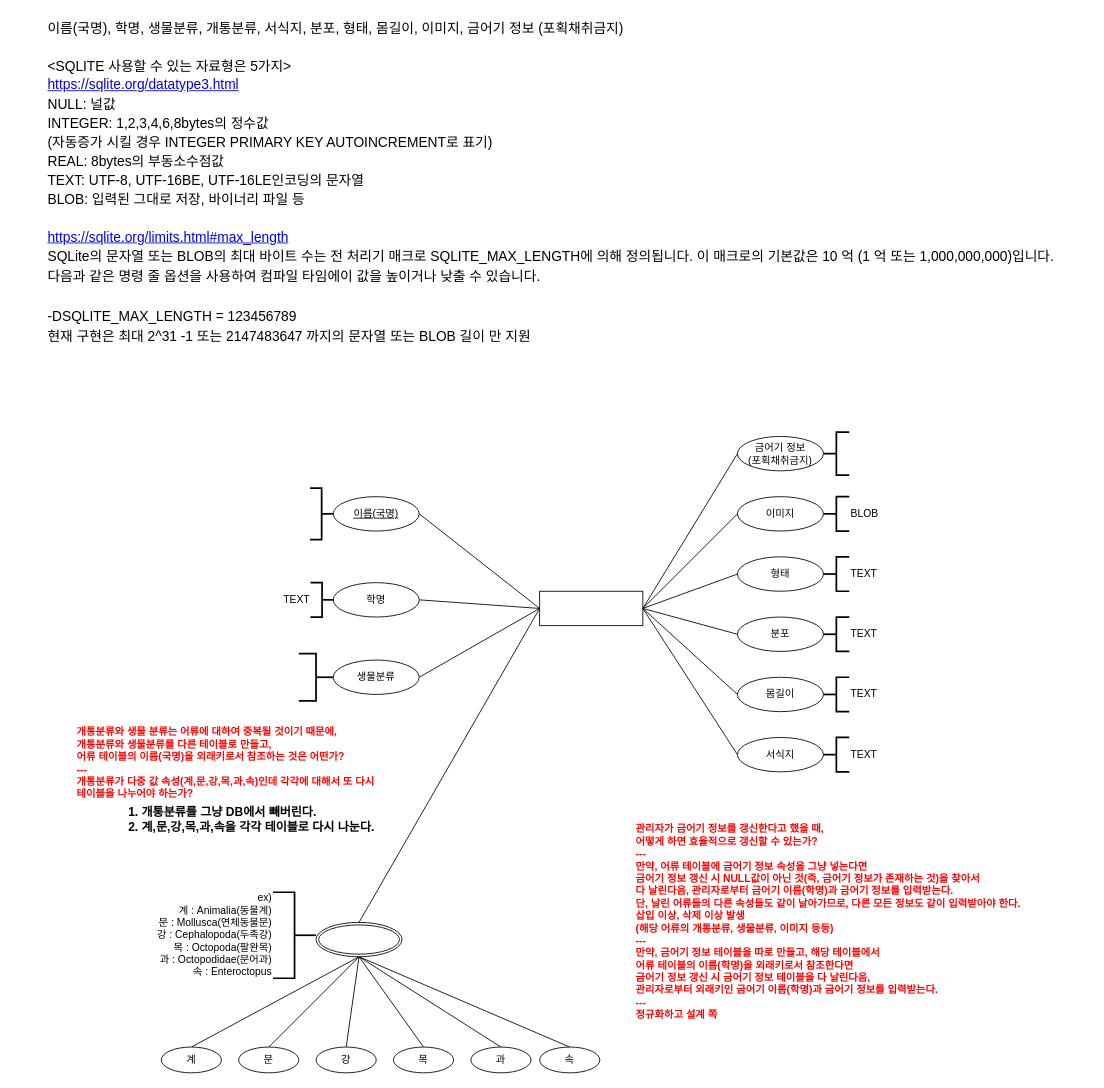
Image size: 1104x1088. Some labels were removed from this diagram. The shapes that lost their labels are listed below. From the top down, each one's centre as x and y in pixels, then its label:
the point at 836,453: 금지 체장 또는 체중, 금지기간, 구역 및 수심 TEXT
the point at 321,513: 동일한 이름을 가진 다른 어류는 존재하지 않으므로, 어류 이름은 중복을 허용하지 않는다. PK, NOT NULL, TEXT
the point at 591,608: 어류
the point at 316,676: ex) 수산동물 > 연체동물 > 두족류 TEXT
the point at 358,939: 개통분류
